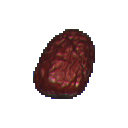gd: (15, 13, 124, 128)
